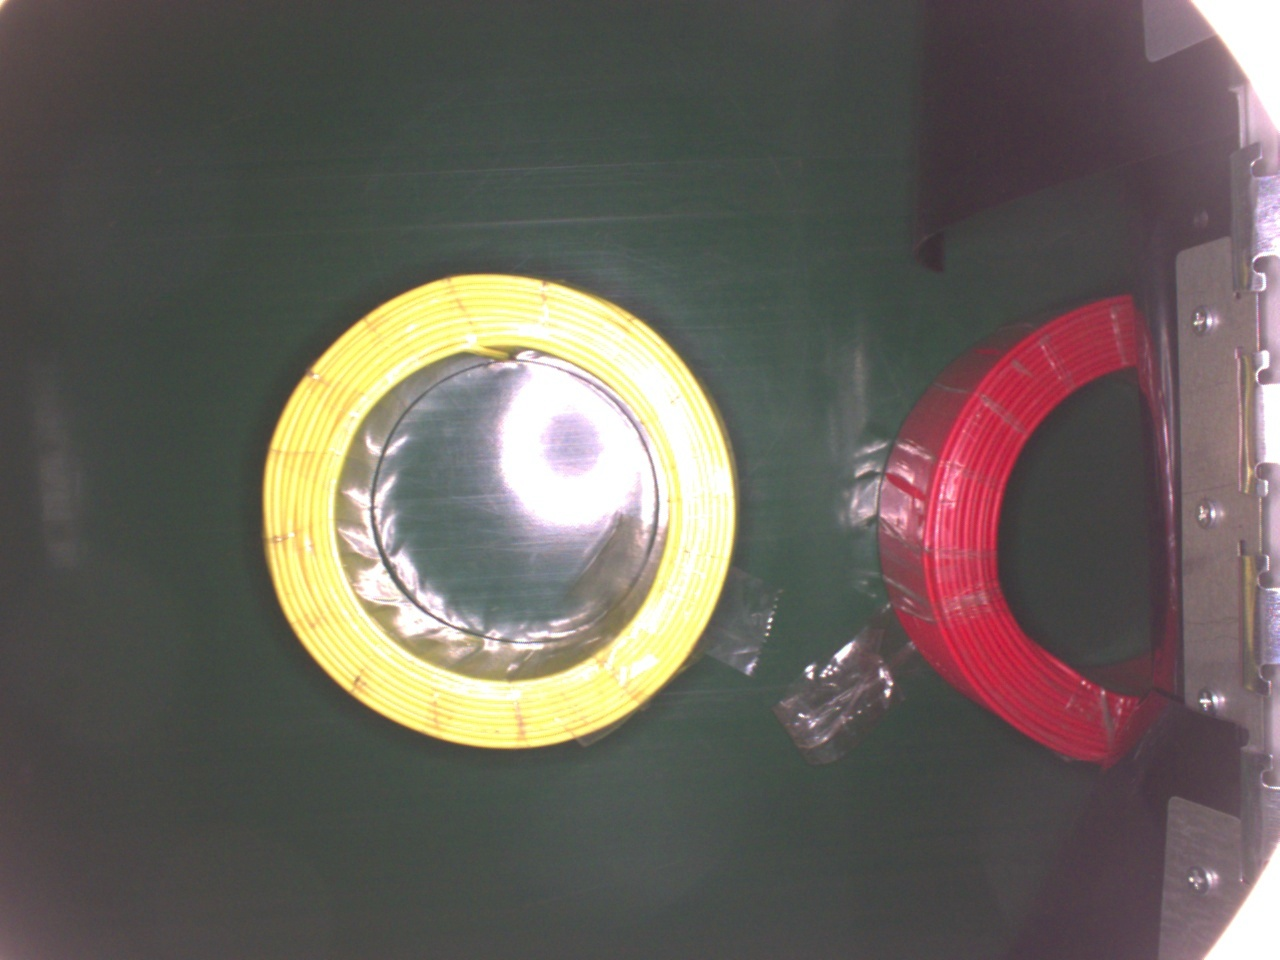red: (875, 287, 1178, 767)
yellow: (251, 266, 742, 757)
